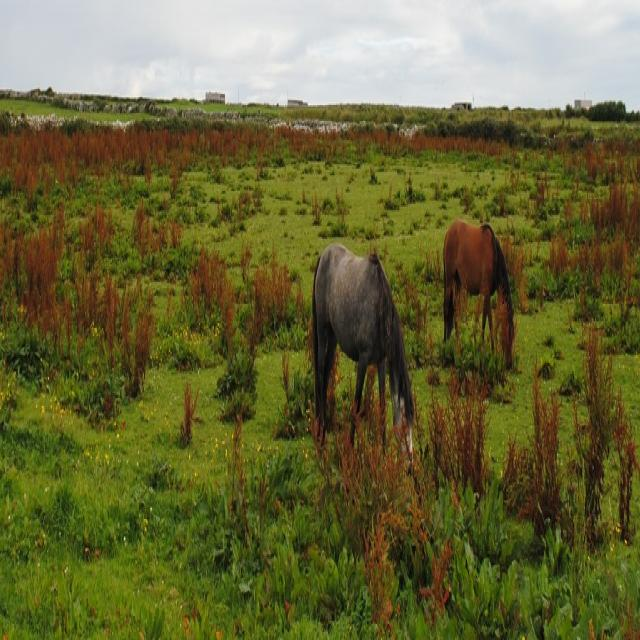Horse: (310, 241, 414, 456), (442, 226, 518, 374)
